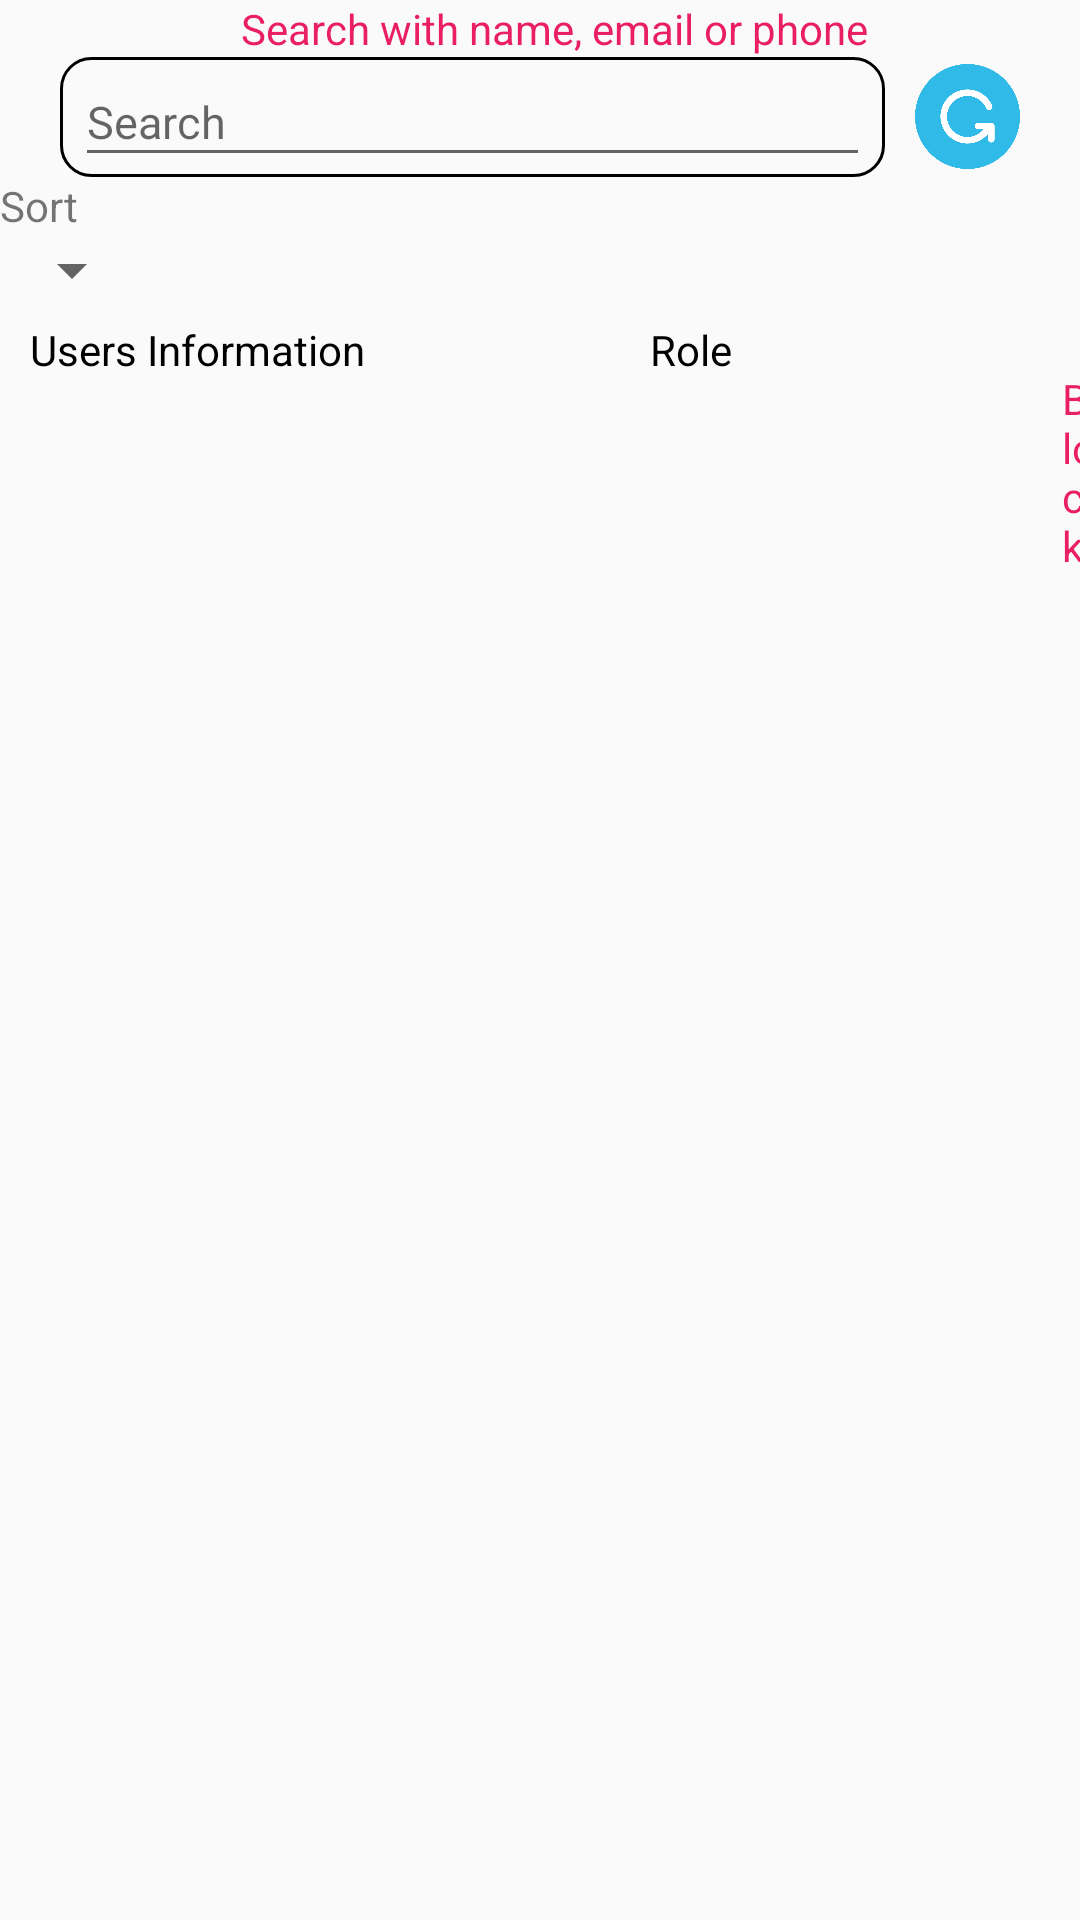

Icons on this 1080px×1920px Android screen, each with its box as (x1, y1, x2, y2):
reload: (915, 64, 1020, 169)
